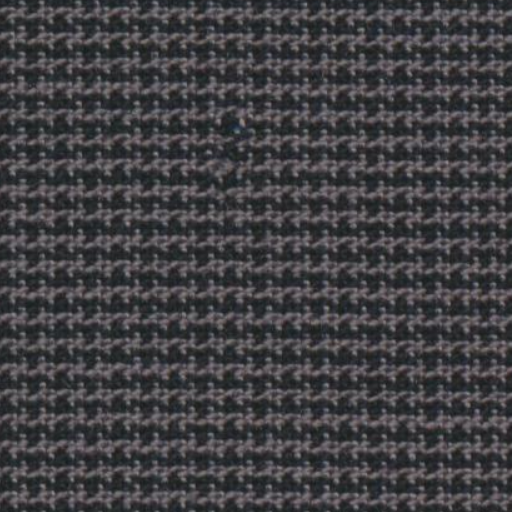PoDong: (175, 90, 272, 200)
